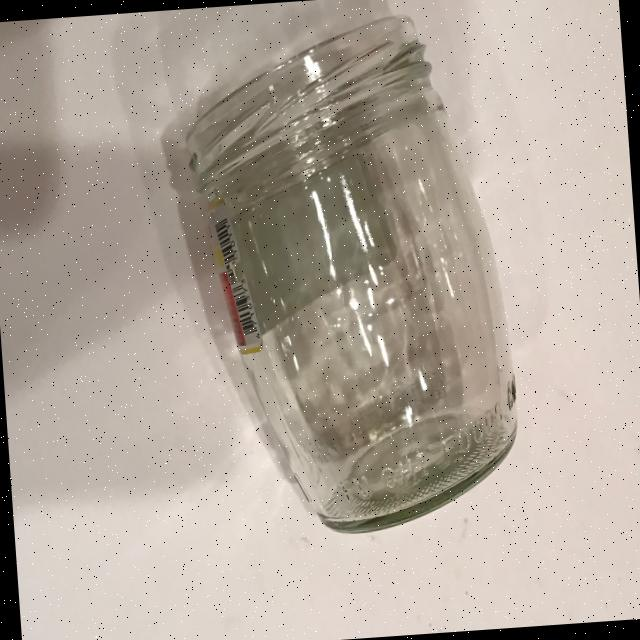glass: (175, 6, 526, 544)
